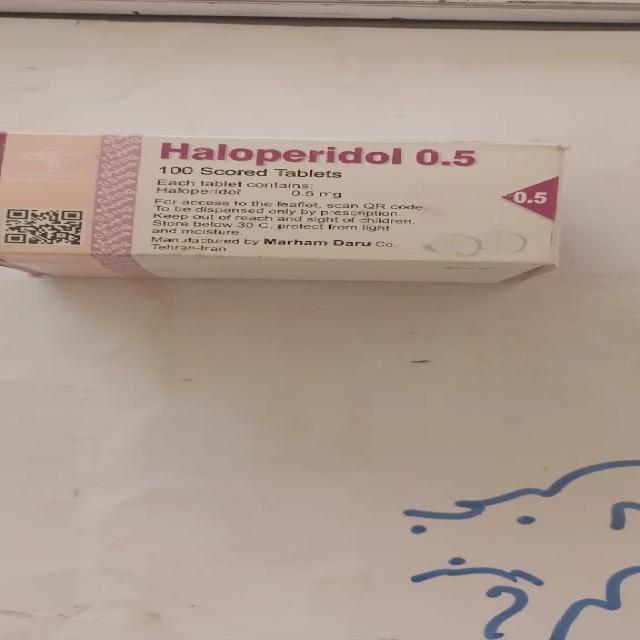drug-name: (148, 140, 478, 168)
